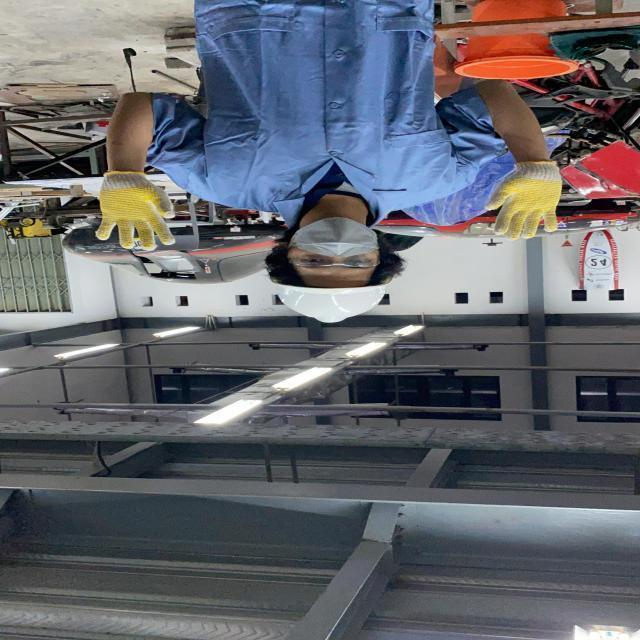Gloves: (95, 170, 177, 256), (487, 160, 565, 245)
Helmet: (260, 274, 398, 329)
